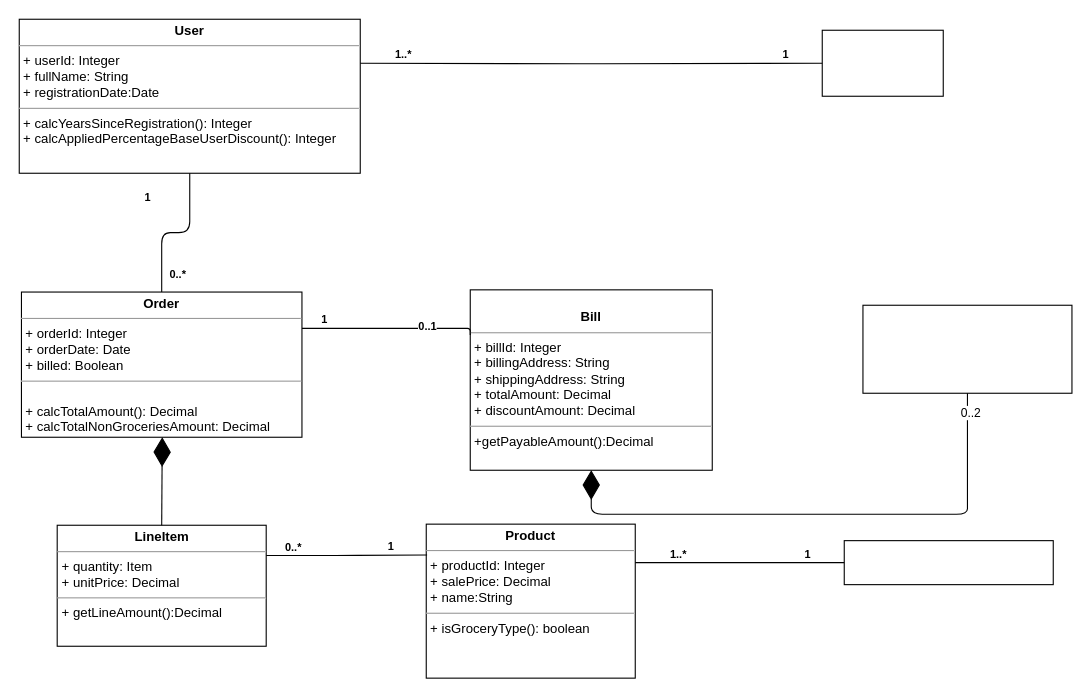
The diagram is 1091 pixels wide and 697 high, and some of its shapes have lost their labels. The shapes that lost their labels are listed below. From the top down, each one's centre as x and y in pixels, then its label:
At pixel 882 62: "«Enumeration» UserType".
At pixel 967 348: "Discount + discountId: Integer + description: String + discountAmount: Decimal".
At pixel 948 562: "<<Enumeration>> ProductType".
